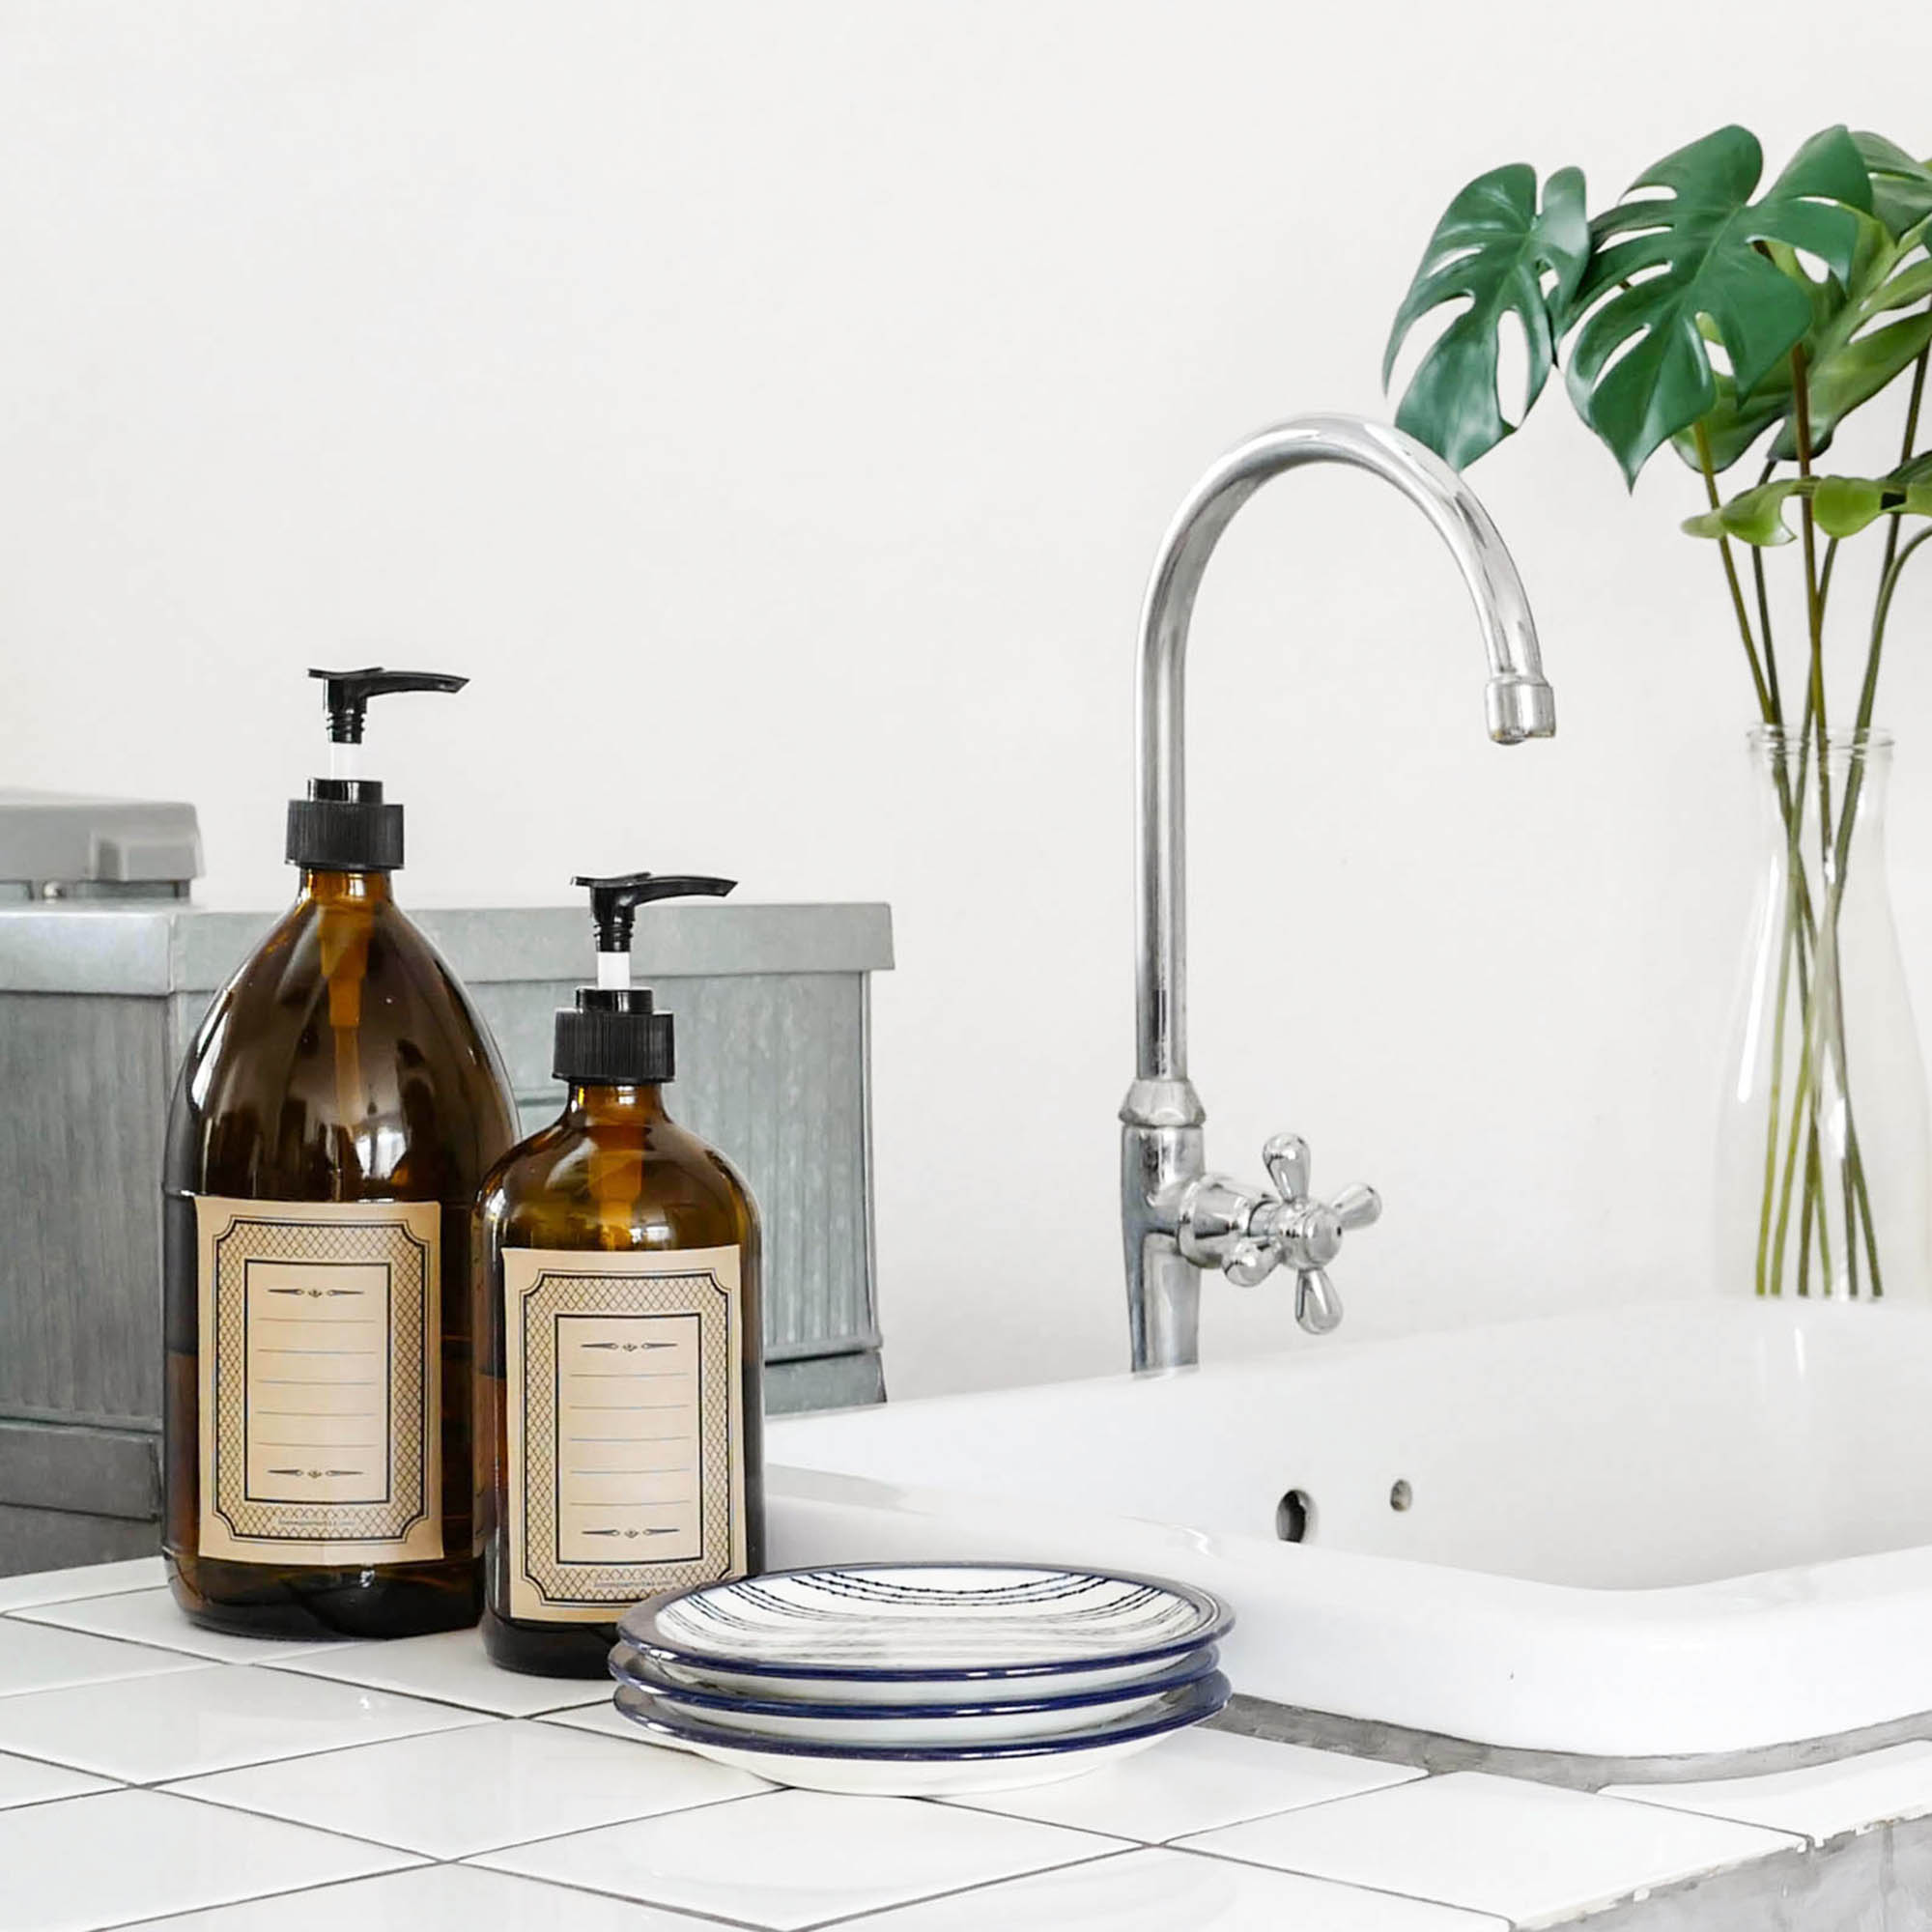glass_bottle: (152, 635, 502, 1640), (481, 849, 786, 1693)
